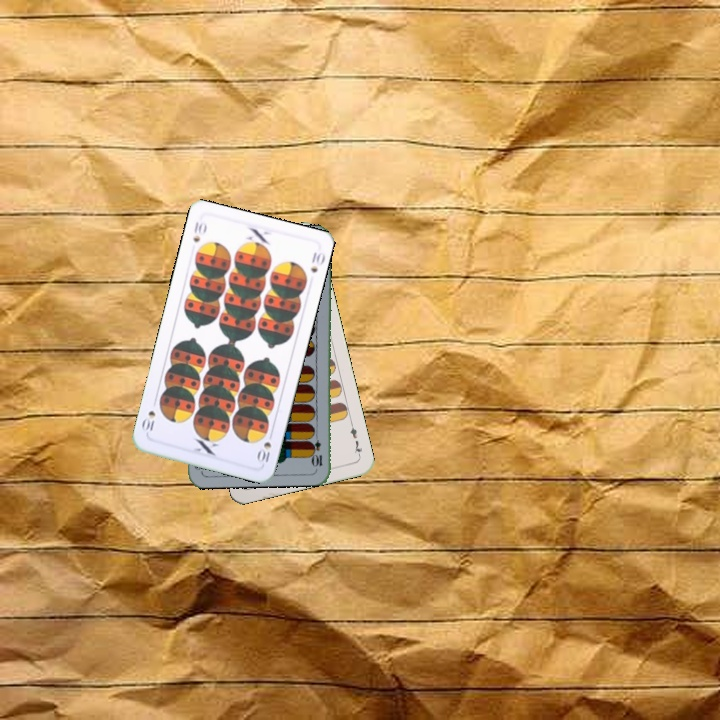E10: (310, 429, 325, 469)
E7: (346, 419, 365, 460)
S10: (253, 438, 274, 466), (189, 218, 209, 244)
